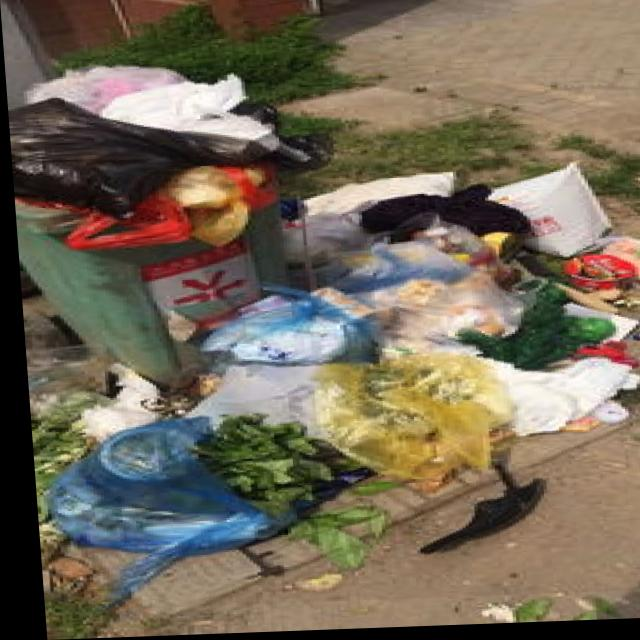garbage: (17, 159, 640, 612)
overflow: (4, 54, 341, 393)
